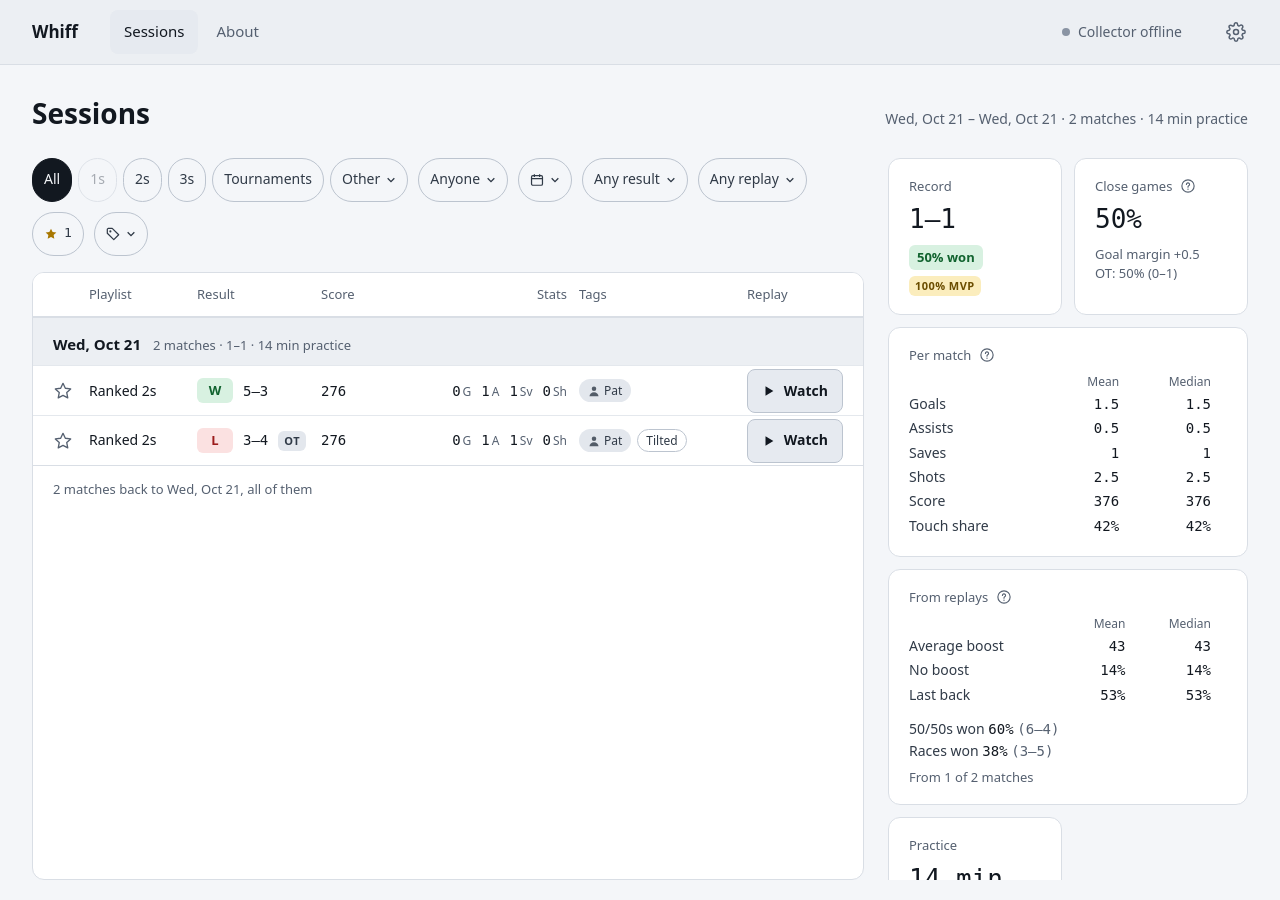
Test: Sessions screen › filters by dates, both ends included, and keeps them in the URL
Expected: the element named "Summary" is shown, [888, 158, 1248, 880]
jsdom has no popover support, so the form counts as hidden there.
Type "2026-10-20" into the date field named "From".
click(545, 180); type("2026-10-20")  # box [518, 158, 572, 202]
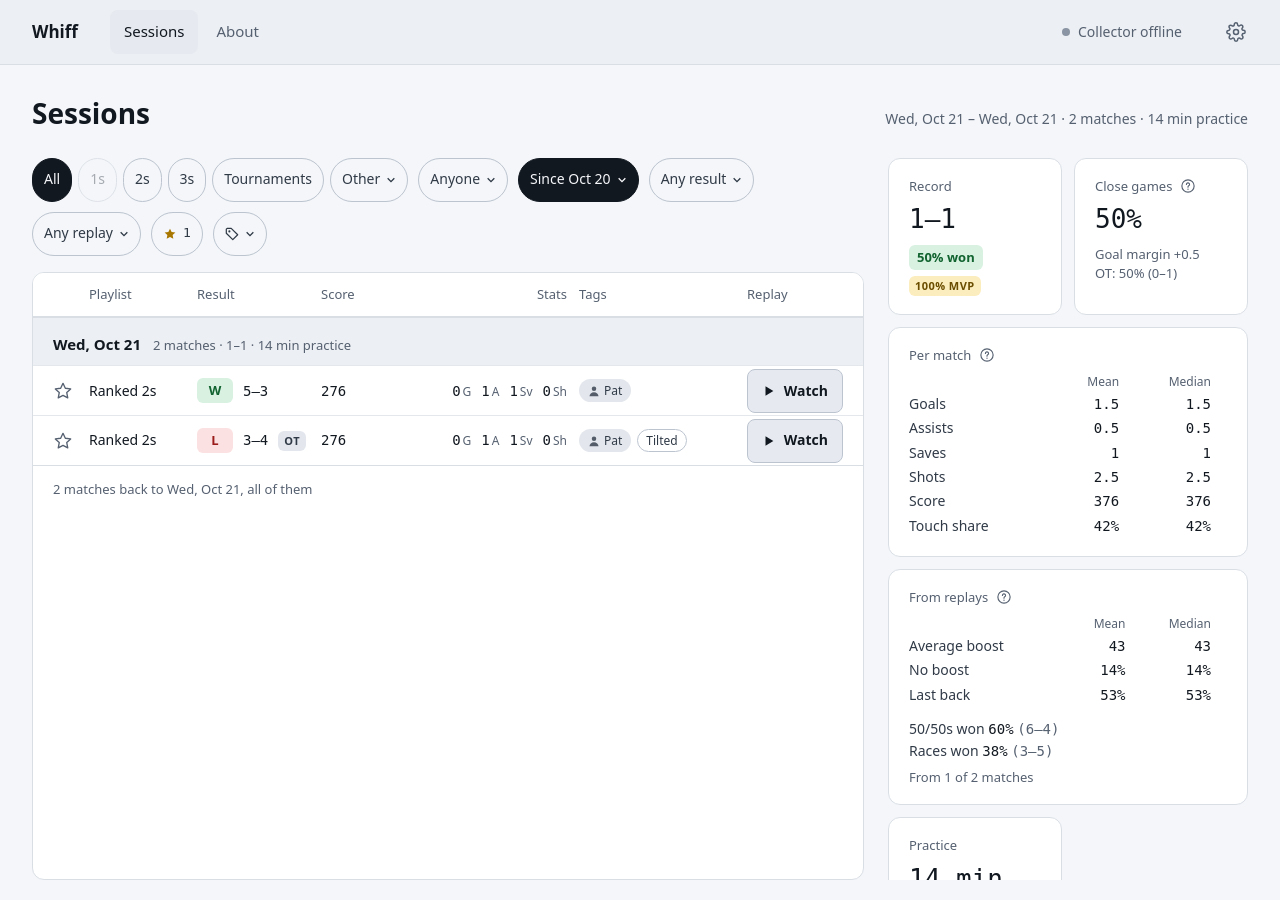
Type "2026-10-21" into the date field named "To".
click(578, 180); type("2026-10-21")  # box [518, 158, 639, 202]
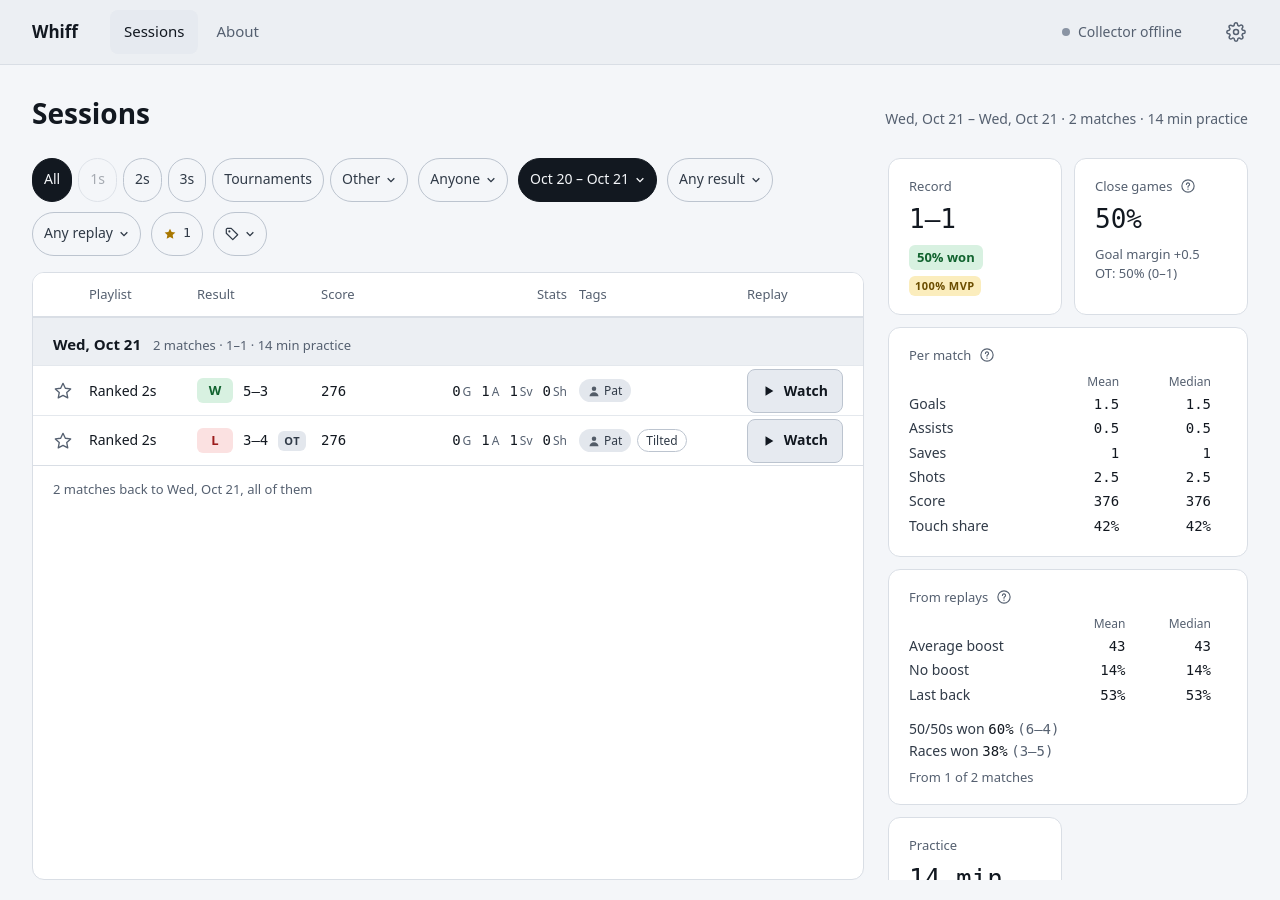
Expected: the button "Oct 20 – Oct 21" is shown, [518, 158, 657, 202]
